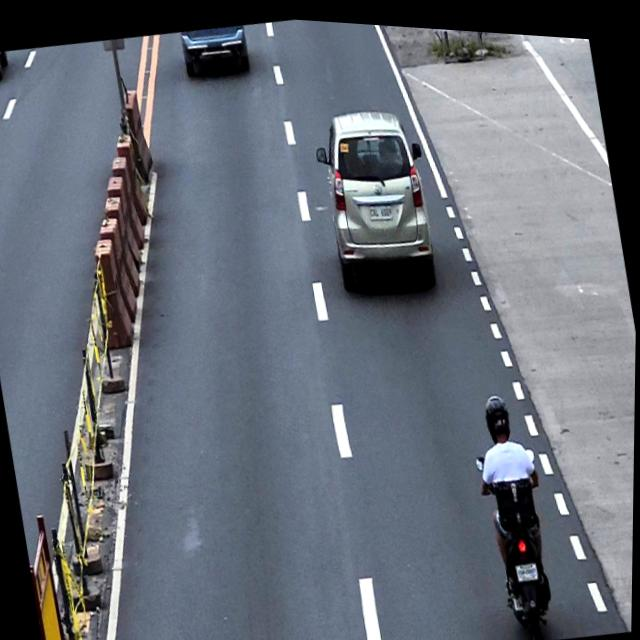Car: (307, 92, 445, 297), (179, 18, 251, 78)
License-Plate: (368, 195, 395, 219), (515, 552, 541, 576)
Motorcycle: (473, 439, 565, 638)
